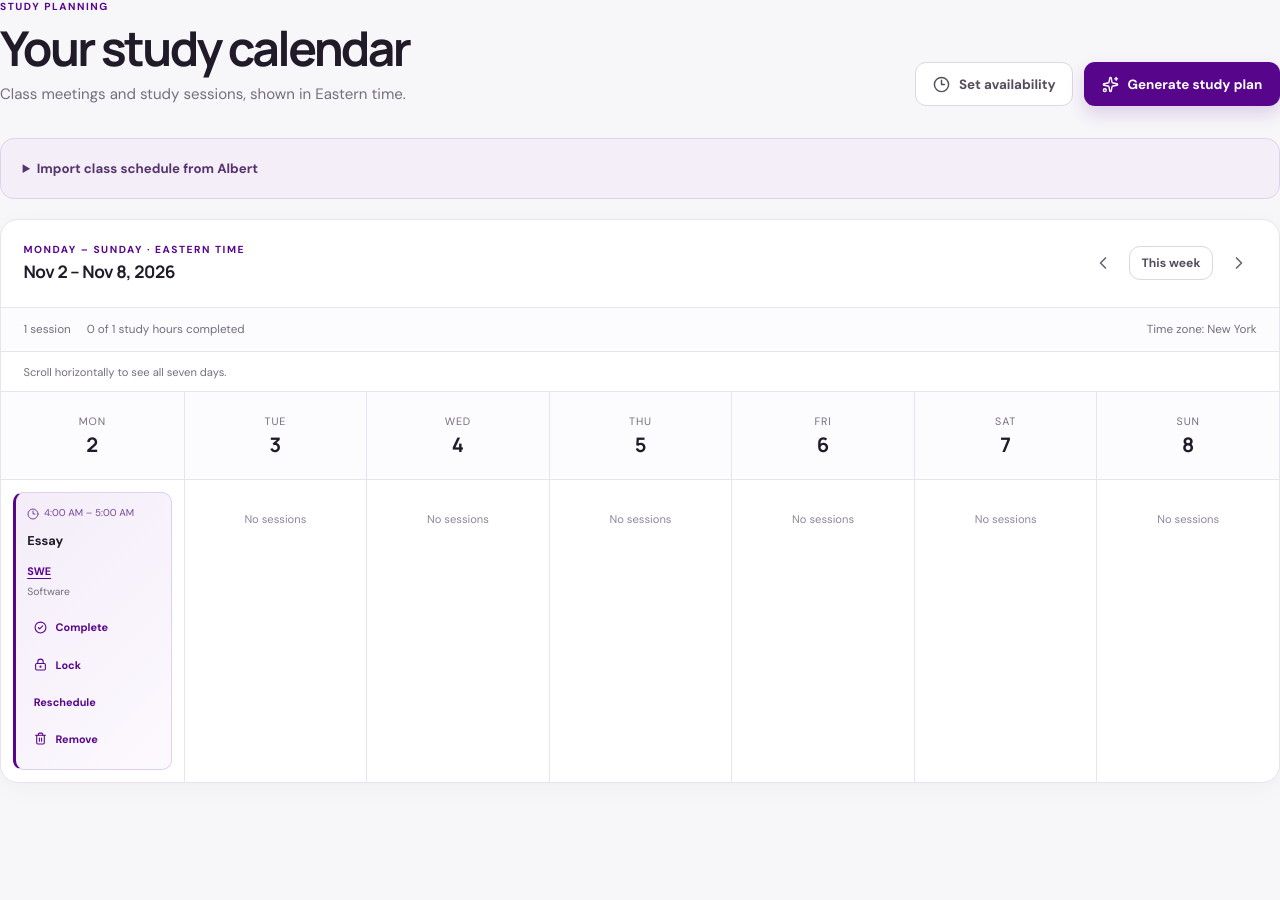
Scenario: reschedule refreshes the visible calendar after saving
The image size is (1280, 900).
Click the button with aria-label "Reschedule Essay" at (65, 702), box [27,685,102,719]
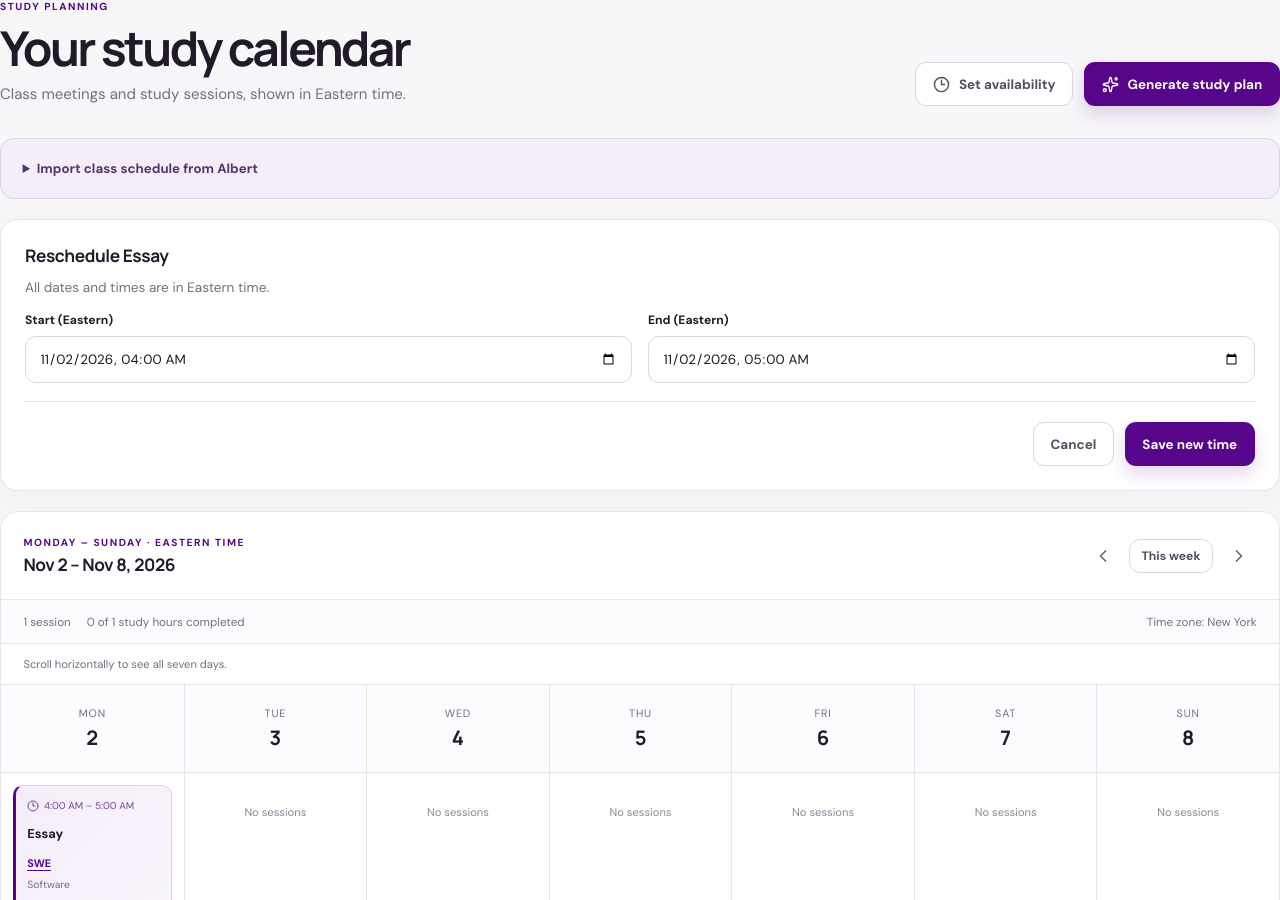
Replace the text in the field labelled "Start (Eastern)" with "2026-11-03T10:00" at (328, 359), box [25,336,632,383]
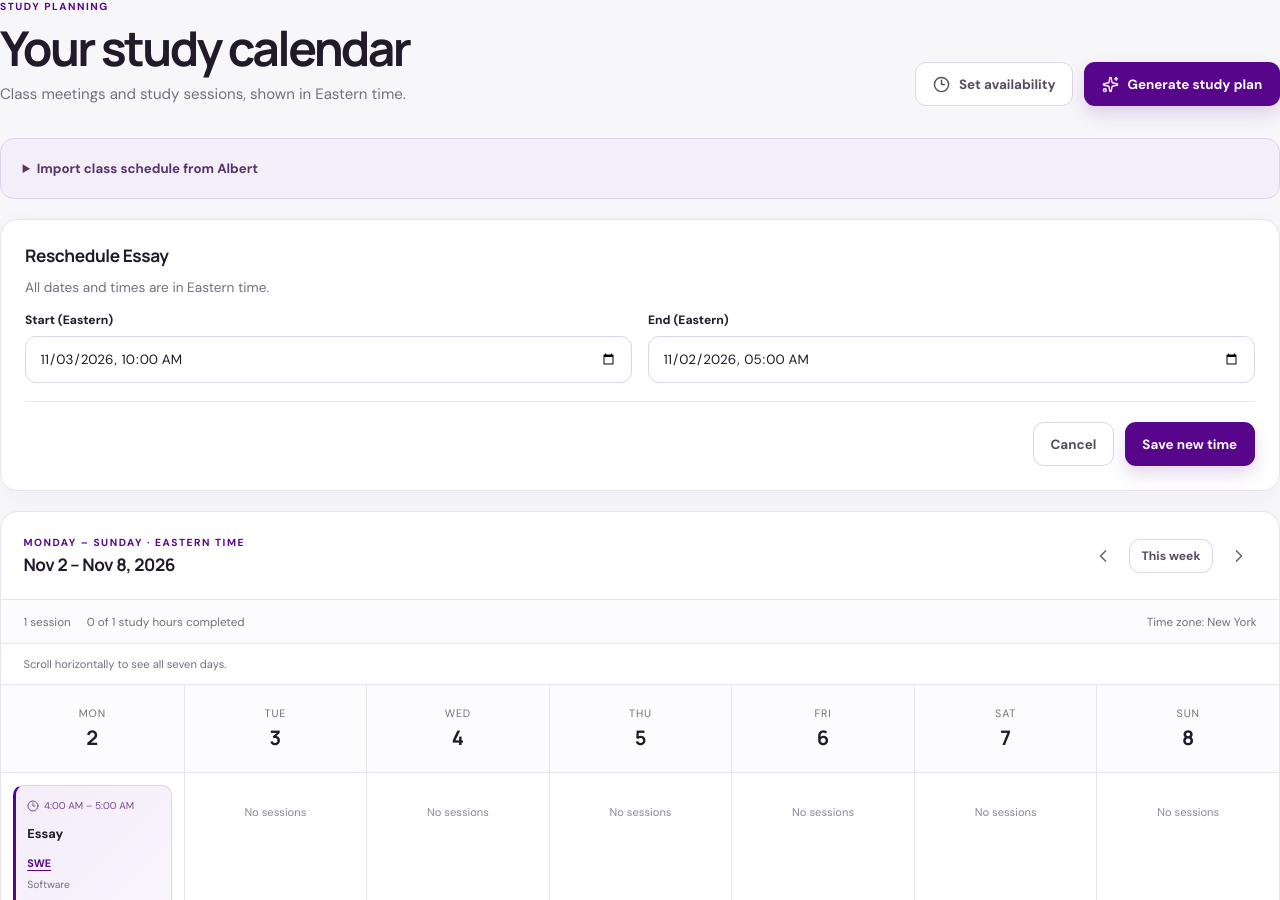
Replace the text in the field labelled "End (Eastern)" with "2026-11-03T11:00" at (952, 359), box [648,336,1255,383]
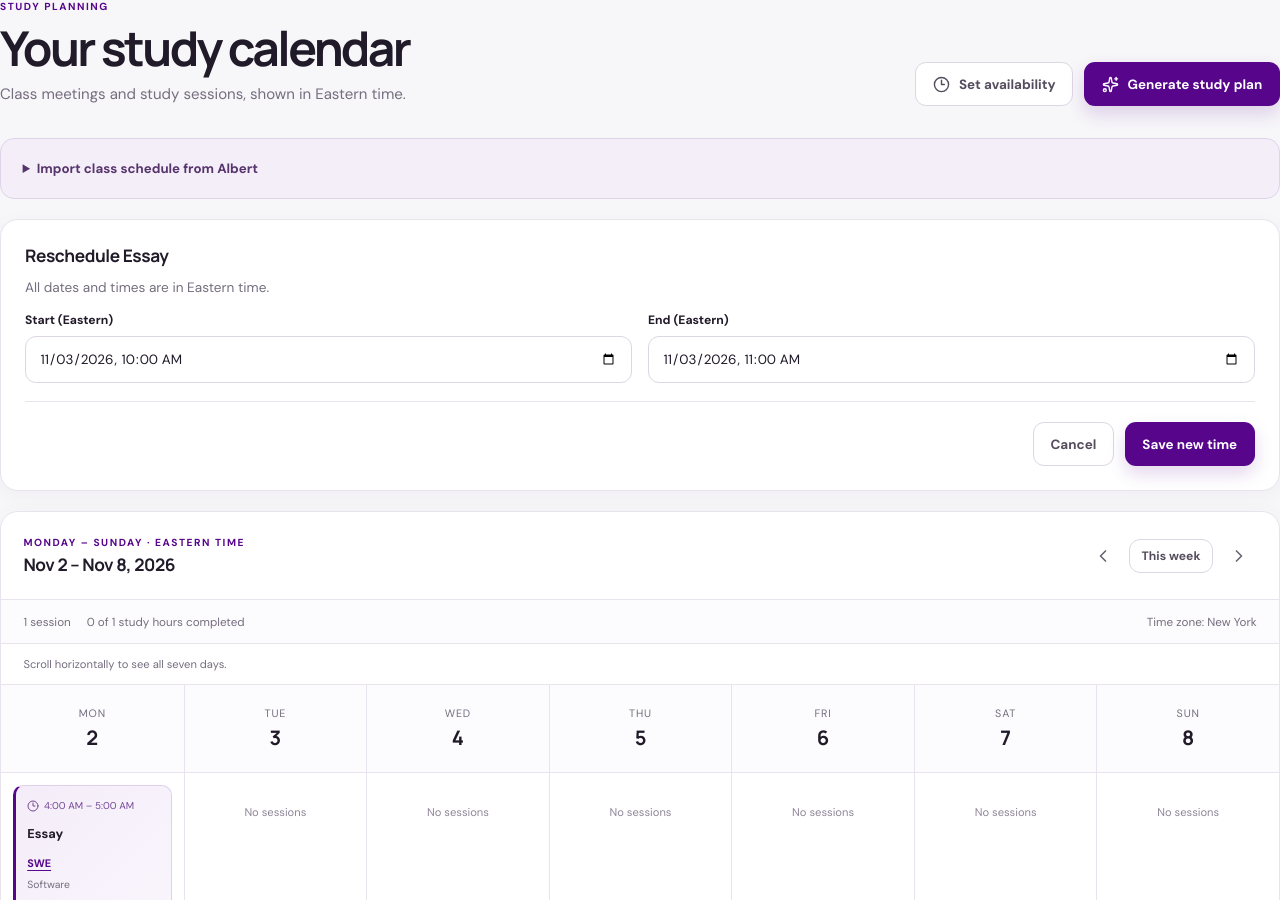
Click the button "Save new time" at (1190, 444), box [1125,422,1255,466]
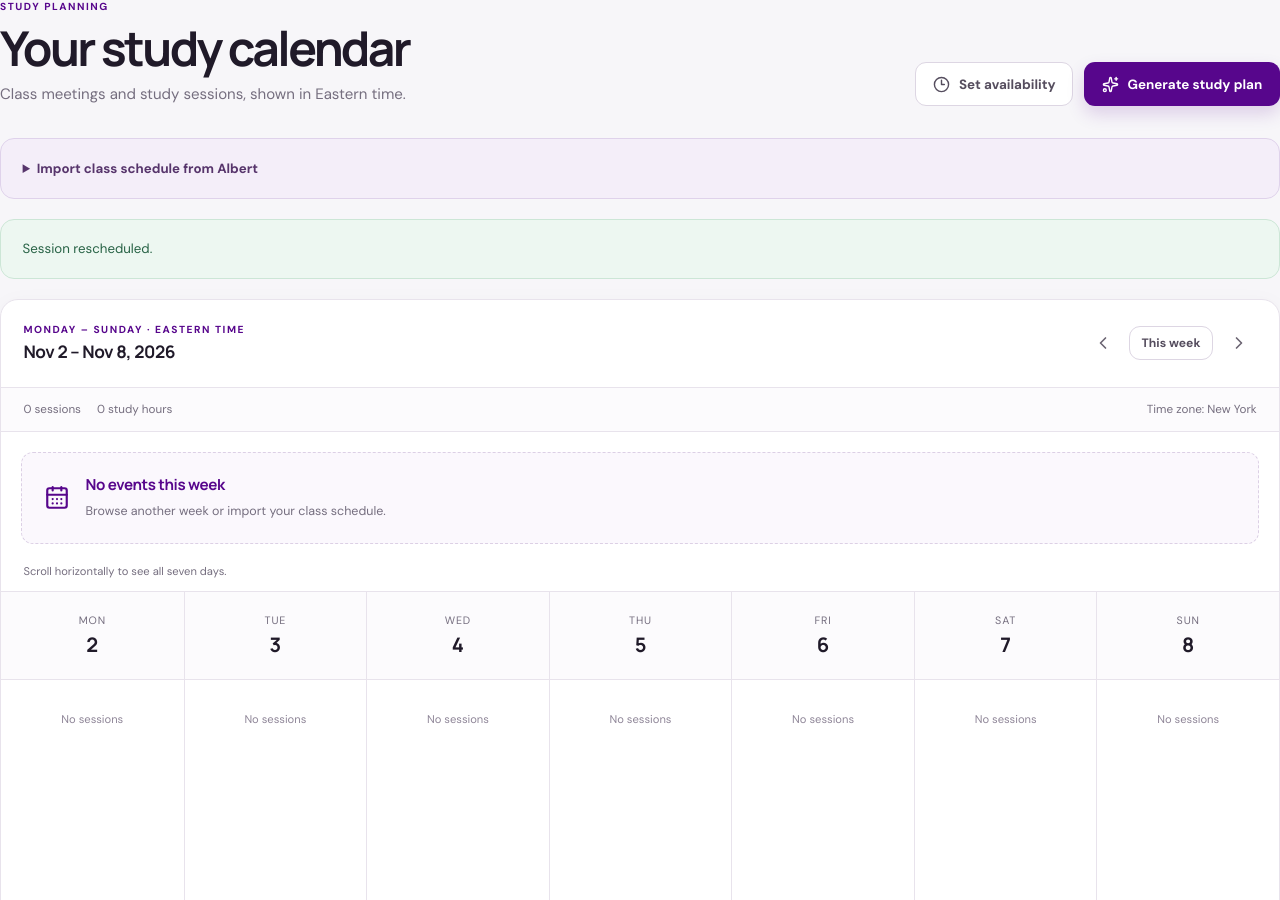
Expected: the heading "No events this week" is shown, [86,474,225,495]
